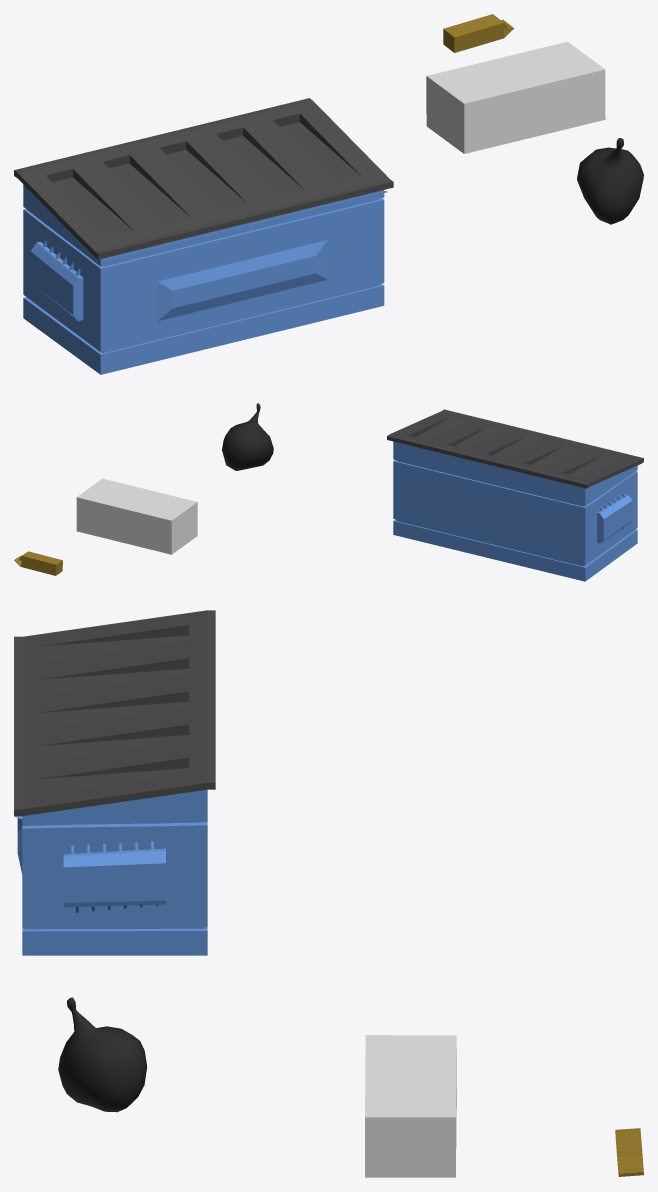
3 renders of one model, top to bottom at view 1: azimuth 30°, elevation 25°; view 2: azimuth 150°, elevation 25°; view 3: azimuth 270°, elevation 25°, orthographic. The views are drawn at different scales.
Parts seen in each view (by area): view 1: Dumpster, Cubo, BinBag, CardboardBox; view 2: Dumpster, Cubo, BinBag, CardboardBox; view 3: Dumpster, Cubo, BinBag, CardboardBox.
Boxes of the visible parts, x1,y1,x2,y2 form: Dumpster: [14, 98, 393, 374]; Cubo: [426, 41, 605, 153]; BinBag: [577, 138, 643, 224]; CardboardBox: [443, 14, 514, 52]; Dumpster: [387, 409, 643, 581]; Cubo: [76, 478, 197, 554]; BinBag: [222, 403, 273, 470]; CardboardBox: [14, 551, 62, 575]; Dumpster: [14, 610, 215, 955]; Cubo: [365, 1035, 456, 1177]; BinBag: [58, 997, 147, 1112]; CardboardBox: [615, 1128, 643, 1176].
Size of the model in its own units: 907 by 200 by 615.
